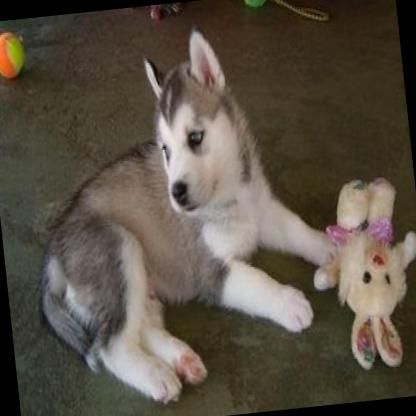Eskimo_dog: (7, 14, 348, 416)
